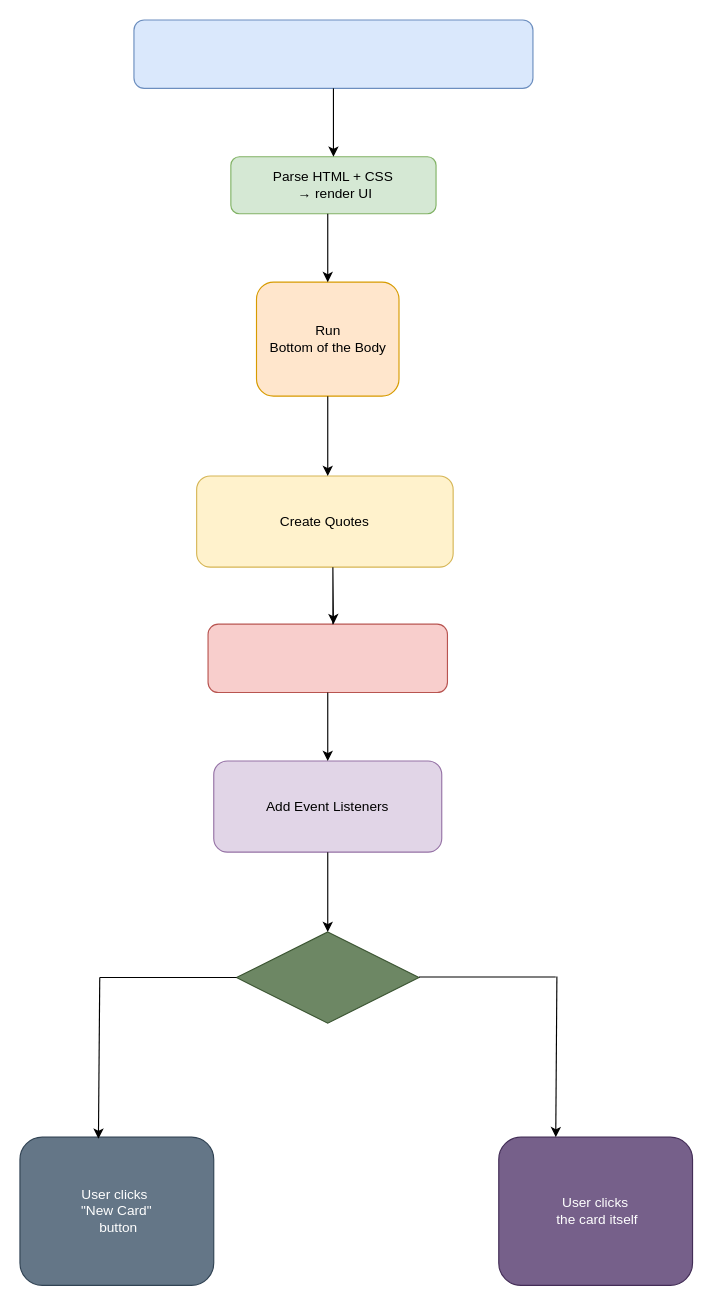
Some shapes in this 713 by 1305 pixel diagram are drawn without their labels. Here are the shapes that lost their labels. From the top down, the centre of each, then its label:
(333,53): Page Load
(327,658): Define Function Generate Card
(327,977): Ready / WAIT for User Action
